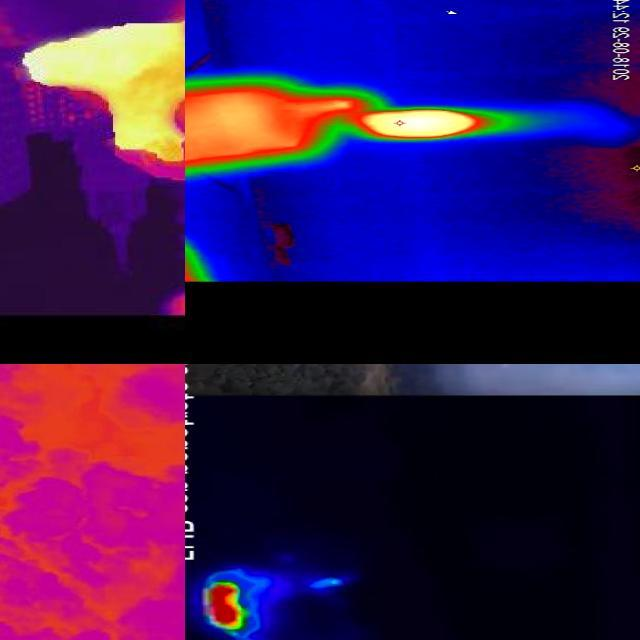fire: (20, 9, 186, 162), (353, 109, 483, 142), (200, 581, 252, 631)
